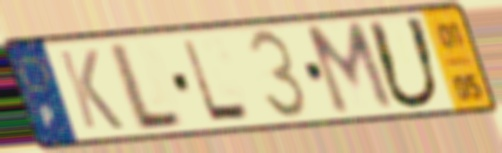3: (245, 26, 311, 123)
K: (54, 47, 128, 132)
L: (107, 39, 187, 135), (178, 36, 255, 123)
M: (300, 17, 400, 120)
U: (362, 14, 446, 113)
